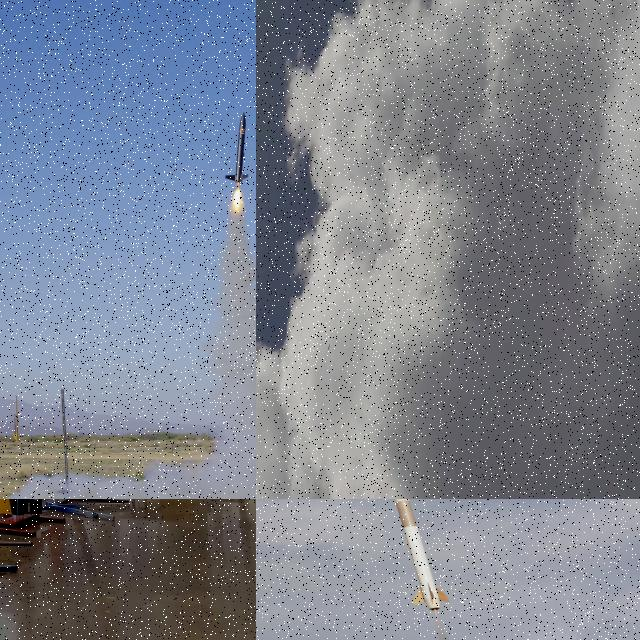Rocket: (394, 499, 450, 612), (226, 112, 250, 184), (327, 343, 331, 351)
